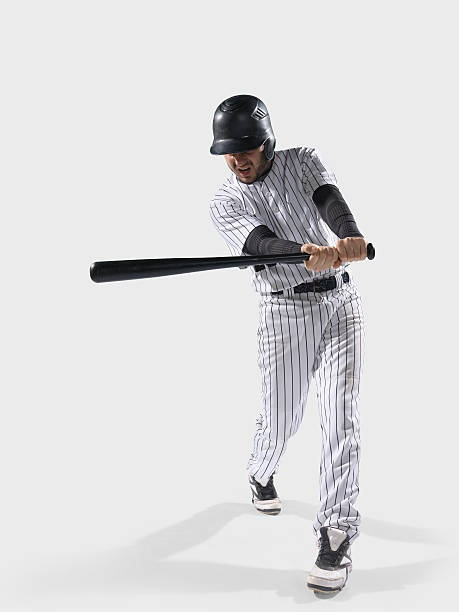bita: (85, 244, 378, 288)
